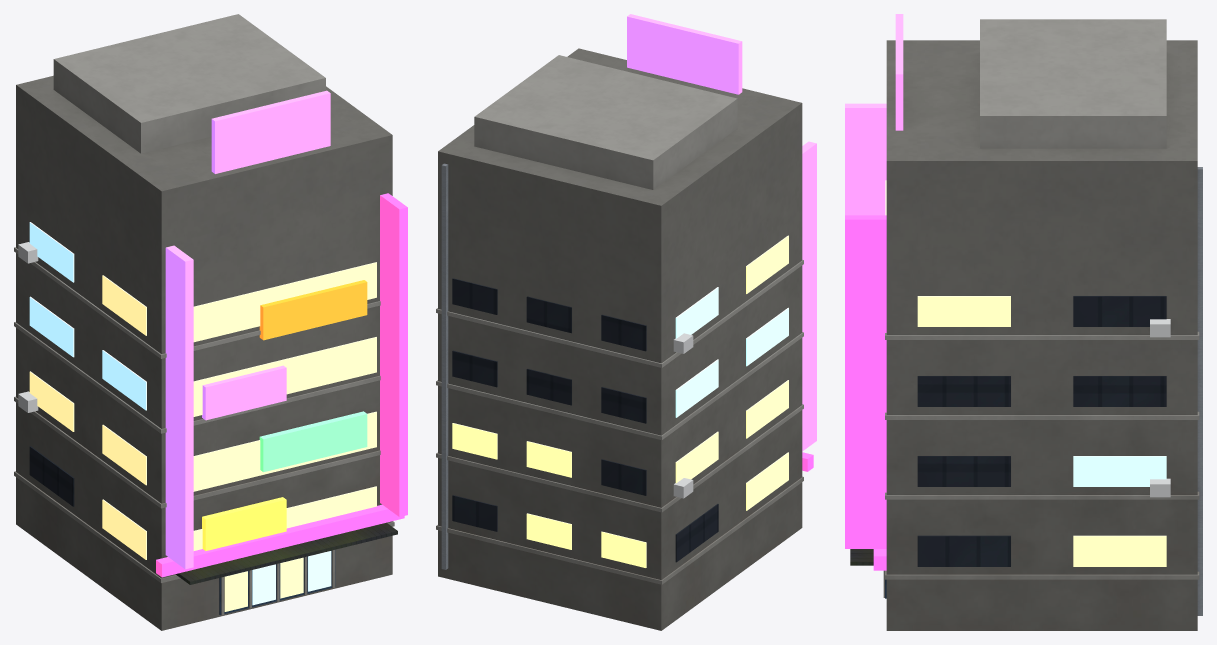
The model's file is neonhus_2_tex.glb.
3 views of the same model, side by side, from view 1: azimuth 30°, elevation 25°; view 2: azimuth 150°, elevation 25°; view 3: azimuth 270°, elevation 25° (orthographic). The views are drawn at different scales.
Visible parts, largest first — view 1: neonhus_2; view 2: neonhus_2; view 3: neonhus_2.
Boxes of the visible parts, left/top/right/bottom form: neonhus_2: left=14, top=14, right=407, bottom=630; neonhus_2: left=436, top=14, right=816, bottom=630; neonhus_2: left=845, top=14, right=1202, bottom=630.
Bounding box in the file's own units: 12 × 22.4 × 13.8.
14 materials, 6 textured.
